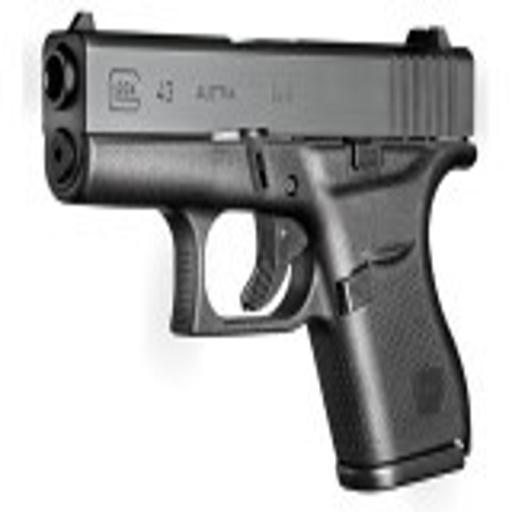Handgun: (37, 7, 479, 489)
